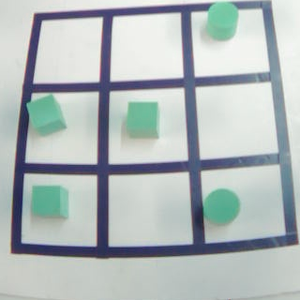cube: (21, 90, 75, 144), (25, 179, 83, 224), (119, 96, 170, 145)
cylinder: (198, 185, 247, 232), (199, 1, 250, 46)
empty: (99, 165, 201, 254), (188, 78, 284, 168), (105, 9, 190, 85), (33, 14, 109, 87)
